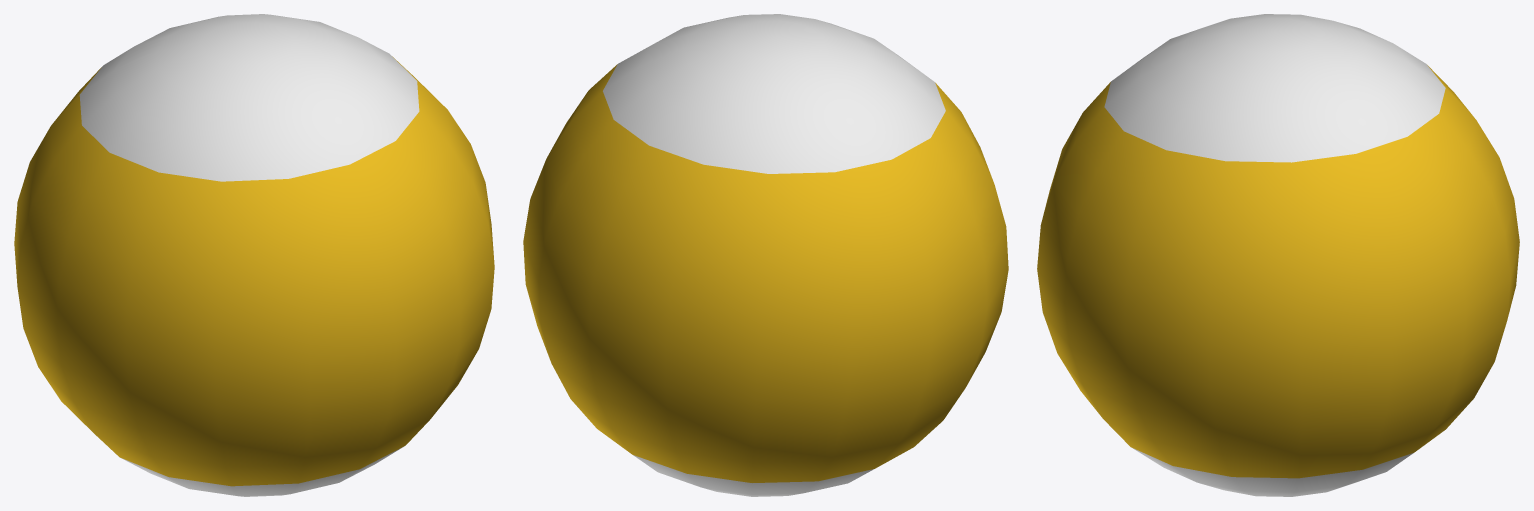
The model's file is Pooltable_Ball_Double.fbx.
3 views of the same model, side by side, from view 1: azimuth 30°, elevation 25°; view 2: azimuth 150°, elevation 25°; view 3: azimuth 270°, elevation 25° (orthographic).
Visible parts, largest first — view 1: Ball_Double; view 2: Ball_Double; view 3: Ball_Double.
Part boxes in pixels (x1,y1,x2,y2): Ball_Double: [14, 14, 494, 496]; Ball_Double: [523, 14, 1008, 496]; Ball_Double: [1037, 14, 1519, 496].
Size of the model in its own units: 572 by 572 by 572.
